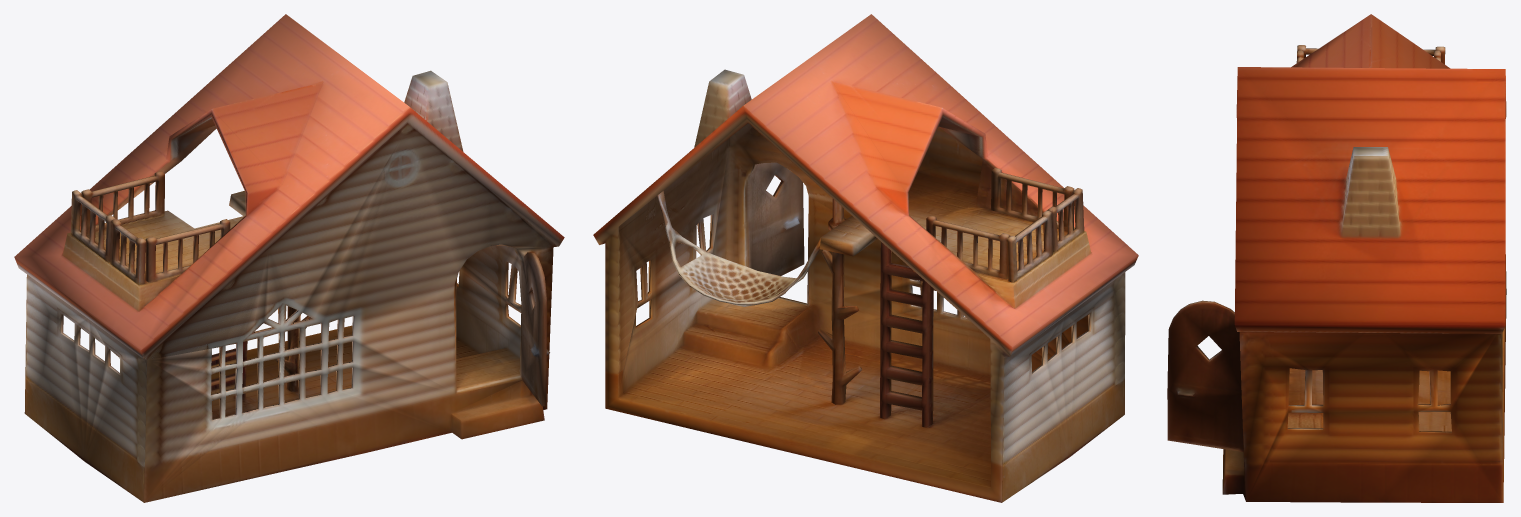
The model's file is Lodge_3175tris.fbx.
The picture shows the model from 3 angles, left to right: view 1: azimuth 30°, elevation 25°; view 2: azimuth 150°, elevation 25°; view 3: azimuth 270°, elevation 25°; orthographic projection. The views are drawn at different scales.
Visible parts, largest first — view 1: Model; view 2: Model; view 3: Model.
Boxes of the visible parts, x1,y1,x2,y2 form: Model: (14,14,564,502); Model: (593,14,1138,502); Model: (1167,14,1506,502).
Size of the model in its own units: 283 by 218 by 185.
Materials: 1 (1 with a texture image).
